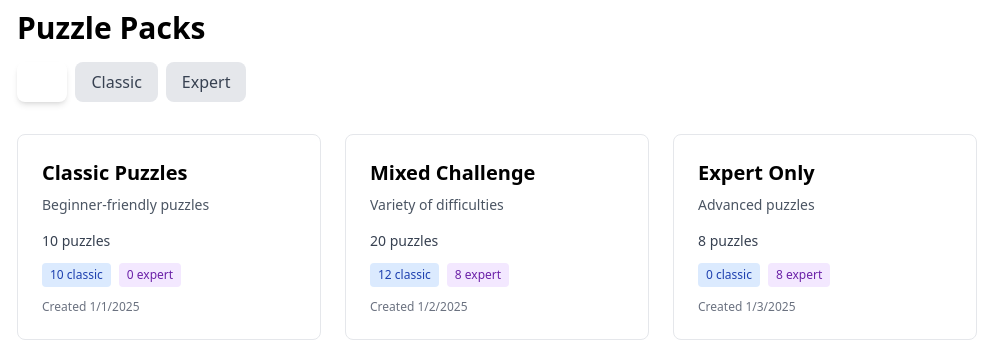
it: Packs Index Filtering › should filter packs by expert difficulty
Expected: the heading "Classic Puzzles" is shown, top-left (42, 159), bottom-right (188, 186)
Click the button "Expert" at [206, 82], box top-left (166, 62), bottom-right (246, 102)
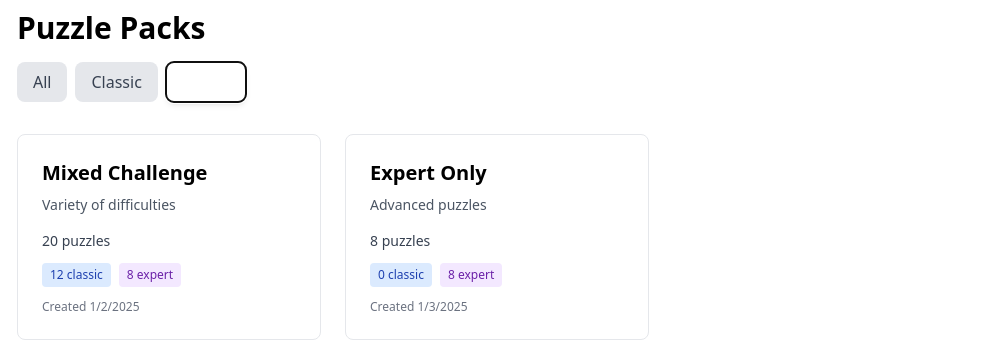
Expected: the heading "Mixed Challenge" is shown, top-left (42, 159), bottom-right (207, 186)
Expected: the link "Classic Puzzles" is gone
